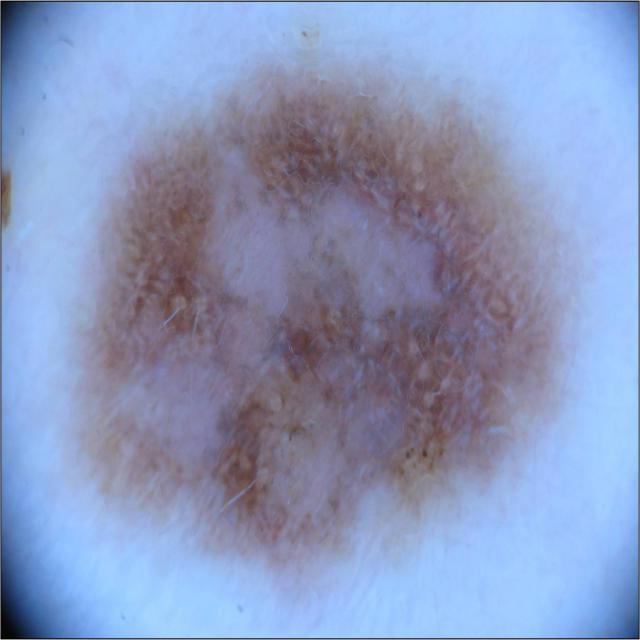Melanoma: (68, 55, 576, 570)
